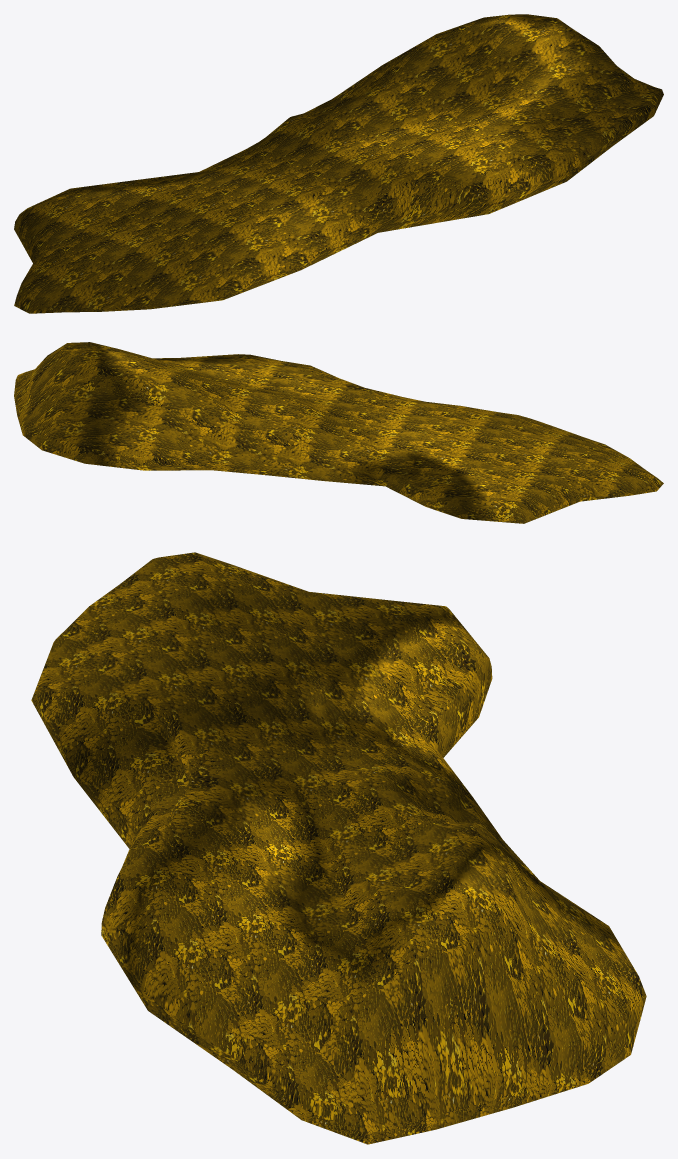
File: CH09_SMAUG_PLAYSURFACE_LAIR81.fbx
3 views of the same model, one above another, from view 1: azimuth 30°, elevation 25°; view 2: azimuth 150°, elevation 25°; view 3: azimuth 270°, elevation 25° (orthographic). The views are drawn at different scales.
Visible parts, largest first — view 1: CH09_SMAUG_PLAYSURFACE_LAIR81; view 2: CH09_SMAUG_PLAYSURFACE_LAIR81; view 3: CH09_SMAUG_PLAYSURFACE_LAIR81.
Boxes of the visible parts, <box> form: CH09_SMAUG_PLAYSURFACE_LAIR81: <box>14,14,663,313</box>; CH09_SMAUG_PLAYSURFACE_LAIR81: <box>14,342,663,523</box>; CH09_SMAUG_PLAYSURFACE_LAIR81: <box>31,552,646,1144</box>.
Size of the model in its own units: 390472 by 47581 by 174776.
Materials: 1 (1 with a texture image).
